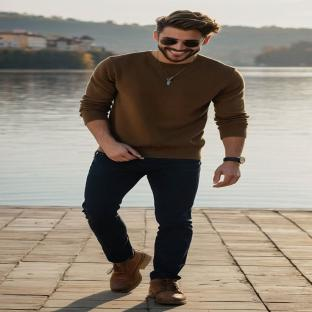Human: (79, 10, 248, 304)
